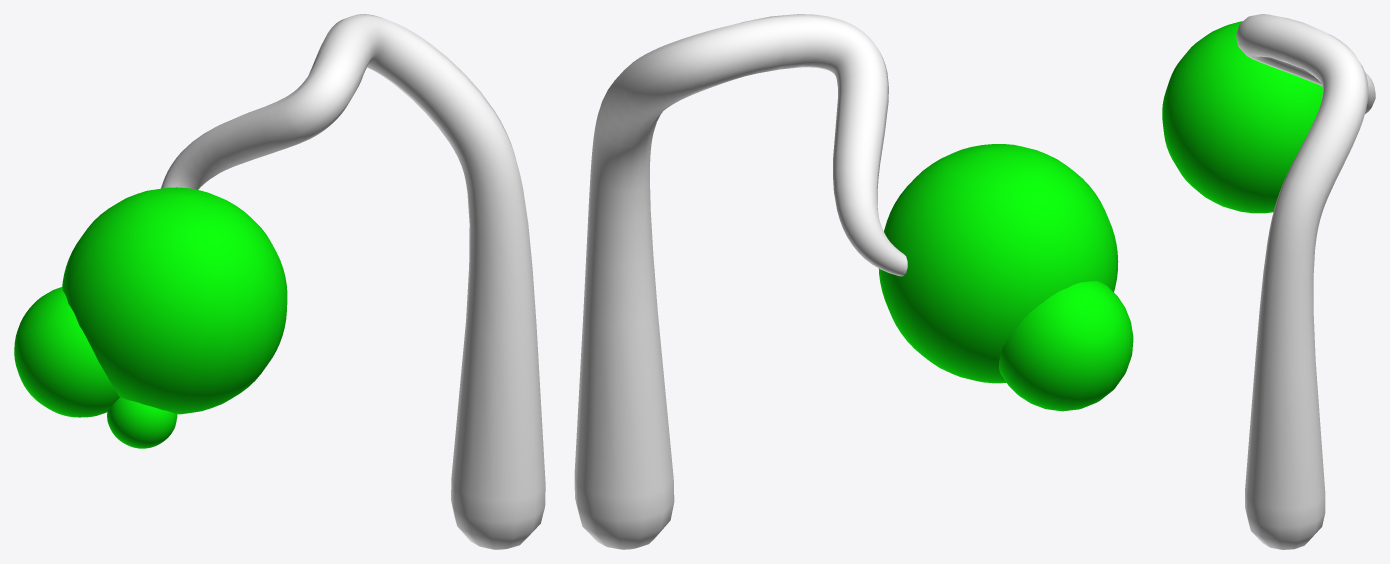
File: tree_2.glb
3 views of the same model, side by side, from view 1: azimuth 30°, elevation 25°; view 2: azimuth 150°, elevation 25°; view 3: azimuth 270°, elevation 25° (orthographic). The views are drawn at different scales.
Parts seen in each view (by area): view 1: s.0028; view 2: s.0028; view 3: s.0028.
Boxes of the visible parts, x1=… form: s.0028: x1=14, y1=14, x2=545, y2=549; s.0028: x1=574, y1=14, x2=1133, y2=549; s.0028: x1=1162, y1=14, x2=1375, y2=549.
Size of the model in its own units: 2.18 by 2.19 by 0.9169.
